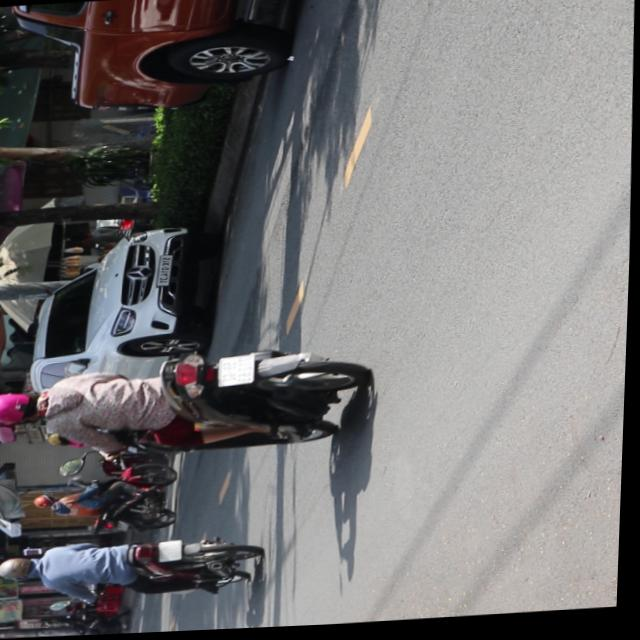helmet: (0, 387, 47, 426), (0, 553, 42, 580)
licenseplate: (0, 340, 373, 469), (0, 529, 266, 608)
nohelmet: (221, 355, 257, 387), (162, 540, 186, 562)
